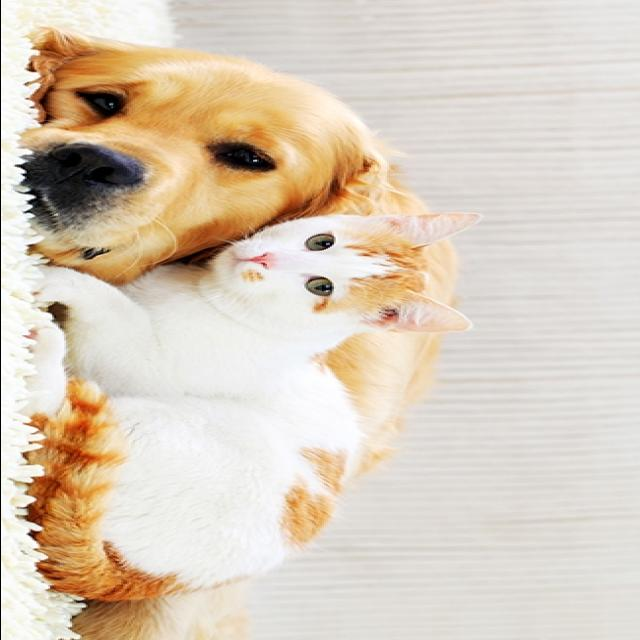cat: (40, 210, 491, 598)
dog: (25, 40, 438, 498)
